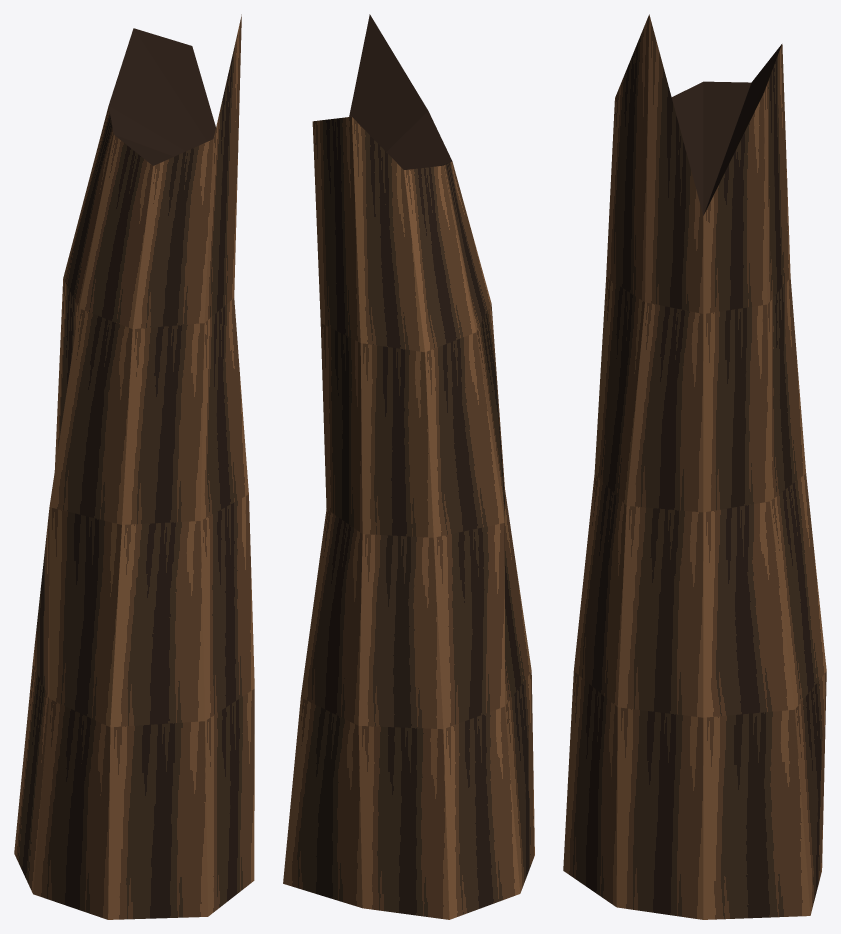
The model's file is PAN-01_Tocon_alto.gltf.
3 renders of one model, left to right at view 1: azimuth 30°, elevation 25°; view 2: azimuth 150°, elevation 25°; view 3: azimuth 270°, elevation 25°, orthographic. The views are drawn at different scales.
Visible parts, largest first — view 1: PAN-01_Tocon_alto-col; view 2: PAN-01_Tocon_alto-col; view 3: PAN-01_Tocon_alto-col.
Boxes of the visible parts, x1,y1,x2,y2 form: PAN-01_Tocon_alto-col: (14, 14, 254, 919); PAN-01_Tocon_alto-col: (283, 14, 534, 919); PAN-01_Tocon_alto-col: (563, 14, 826, 919).
Bounding box in the file's own units: 0.9488 × 3.79 × 1.01.
Materials: 1 (1 with a texture image).
